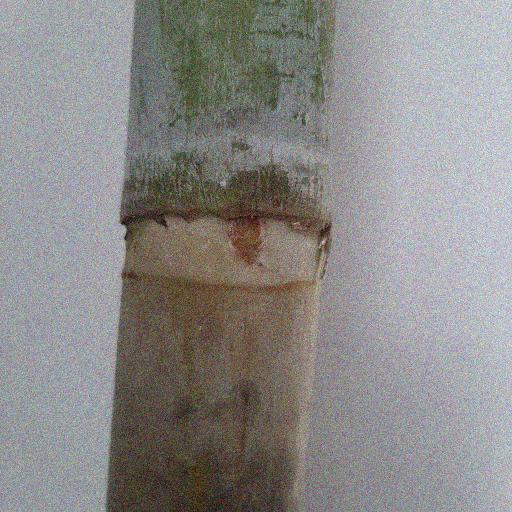Damage_Bud: (227, 217, 264, 267)
